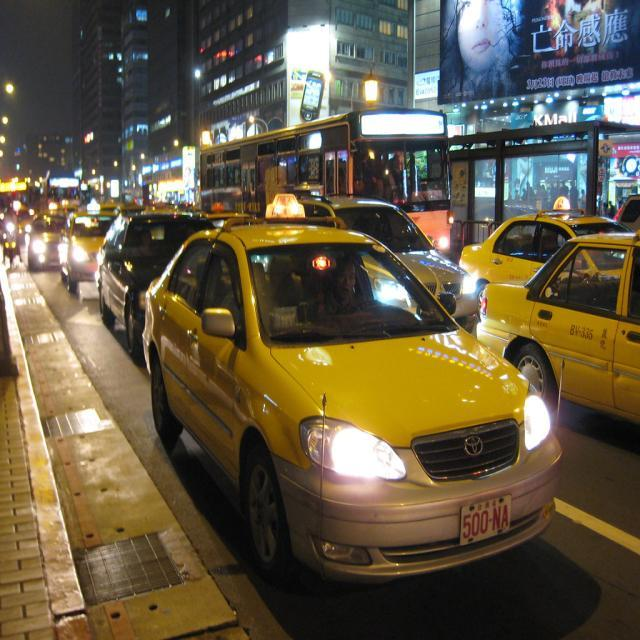taxi: (145, 186, 586, 608), (493, 222, 640, 408), (457, 186, 620, 278)
